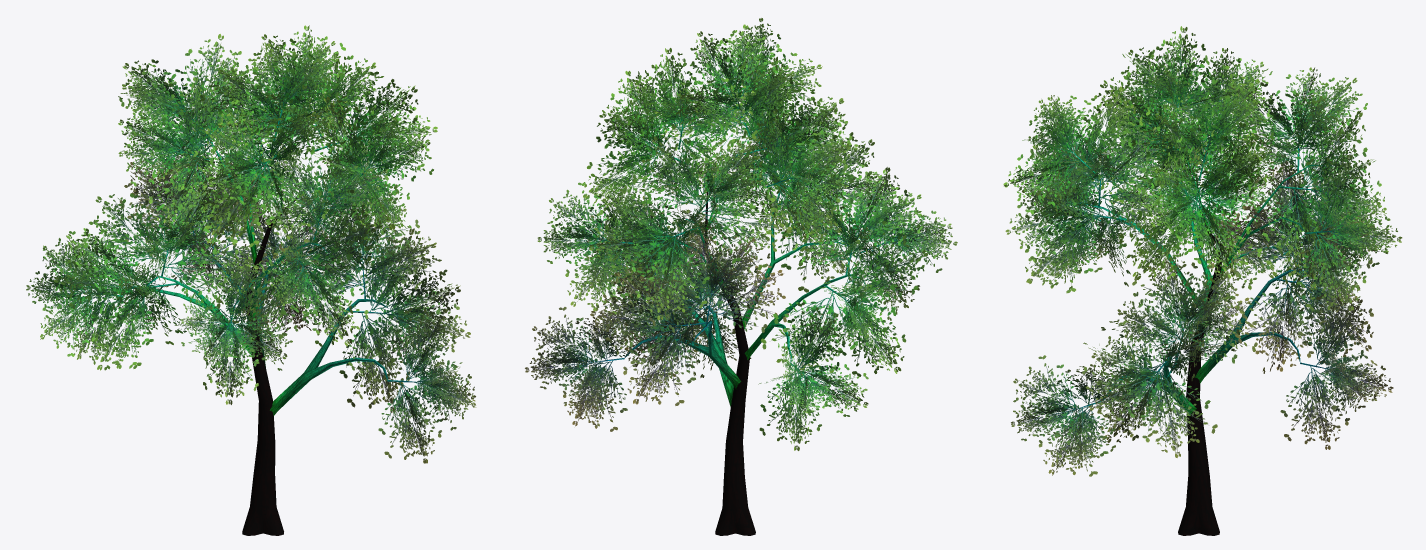
The model's file is broadleaf.glb.
3 renders of one model, left to right at view 1: azimuth 30°, elevation 25°; view 2: azimuth 150°, elevation 25°; view 3: azimuth 270°, elevation 25°, orthographic. The views are drawn at different scales.
Parts seen in each view (by area): view 1: SM_Mobile28_8; view 2: SM_Mobile28_8; view 3: SM_Mobile28_8.
Boxes of the visible parts, x1=… form: SM_Mobile28_8: x1=26, y1=25, x2=476, y2=535; SM_Mobile28_8: x1=525, y1=18, x2=957, y2=535; SM_Mobile28_8: x1=1003, y1=26, x2=1402, y2=535.
Bounding box in the file's own units: 1829 × 2420 × 1811.
2 materials, 2 textured.
